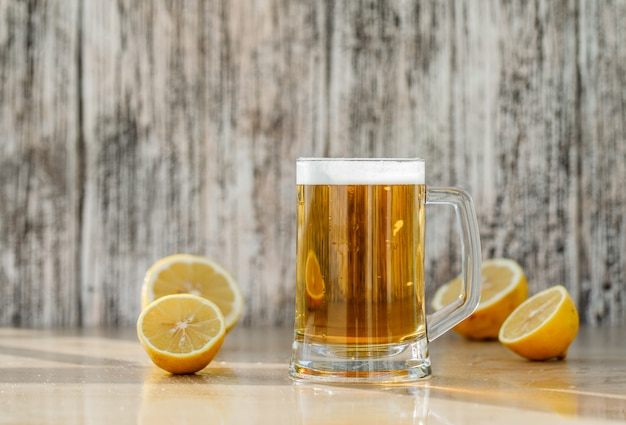alcohol: (294, 156, 478, 385)
